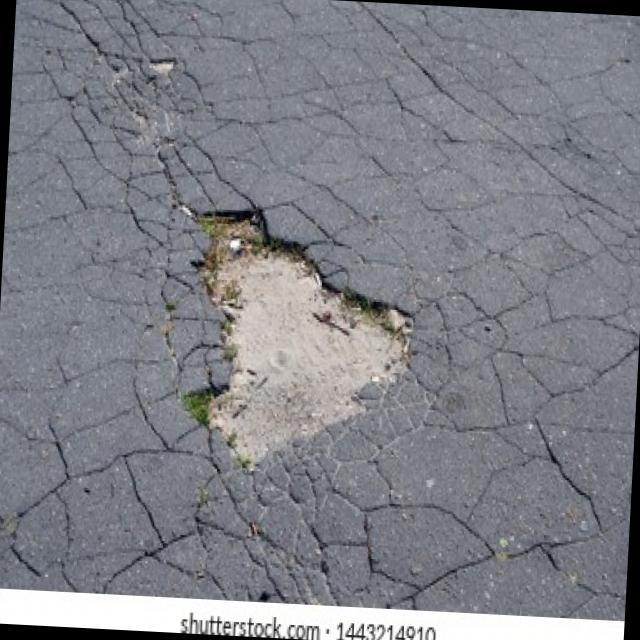Pothole: (185, 202, 422, 476)
